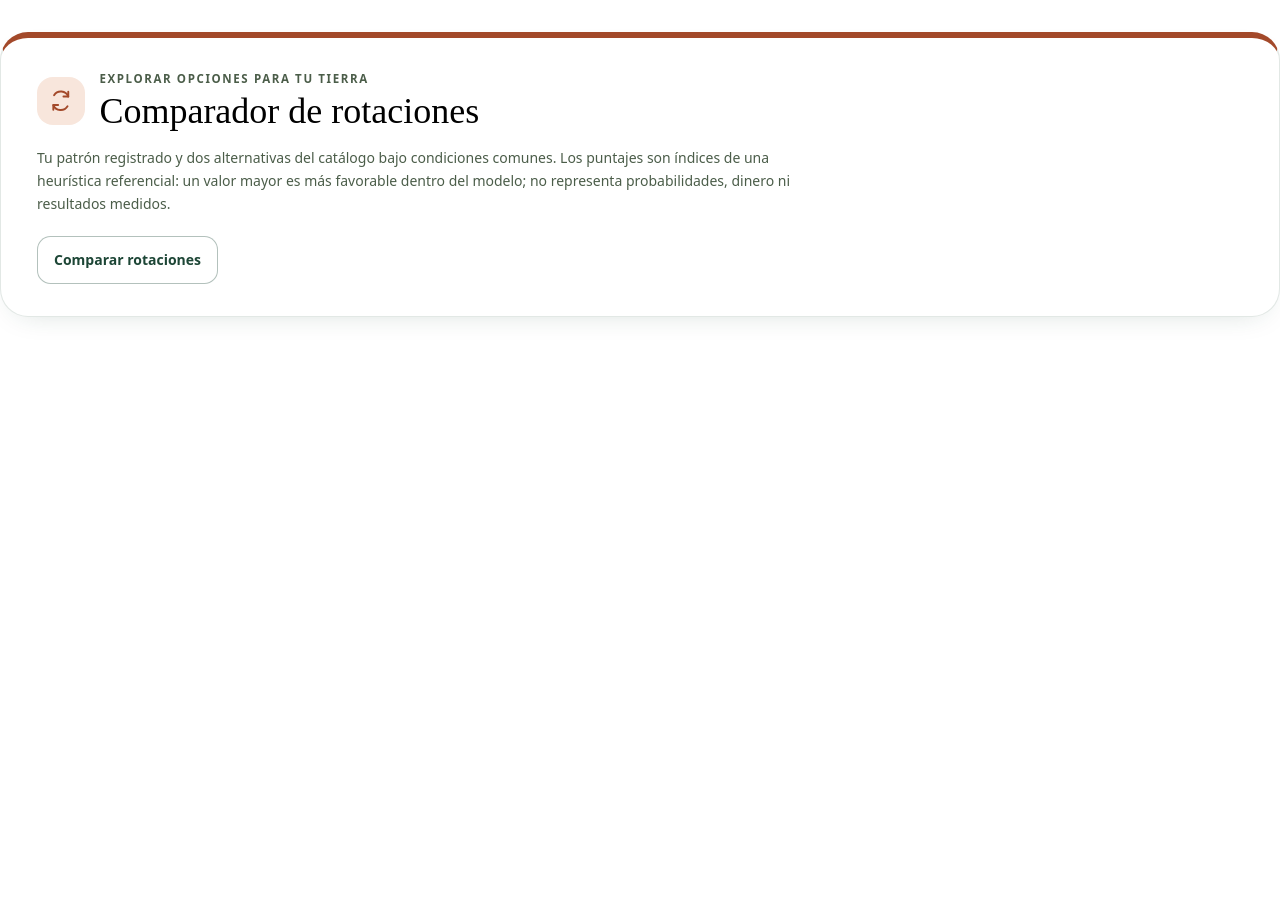
Test case: Comparador: tres tarjetas, límites, errores y sesiones › un fallo no muestra puntuaciones falsas y permite reintentar
Click the button "Comparar rotaciones" at (128, 260), box [37, 236, 218, 284]
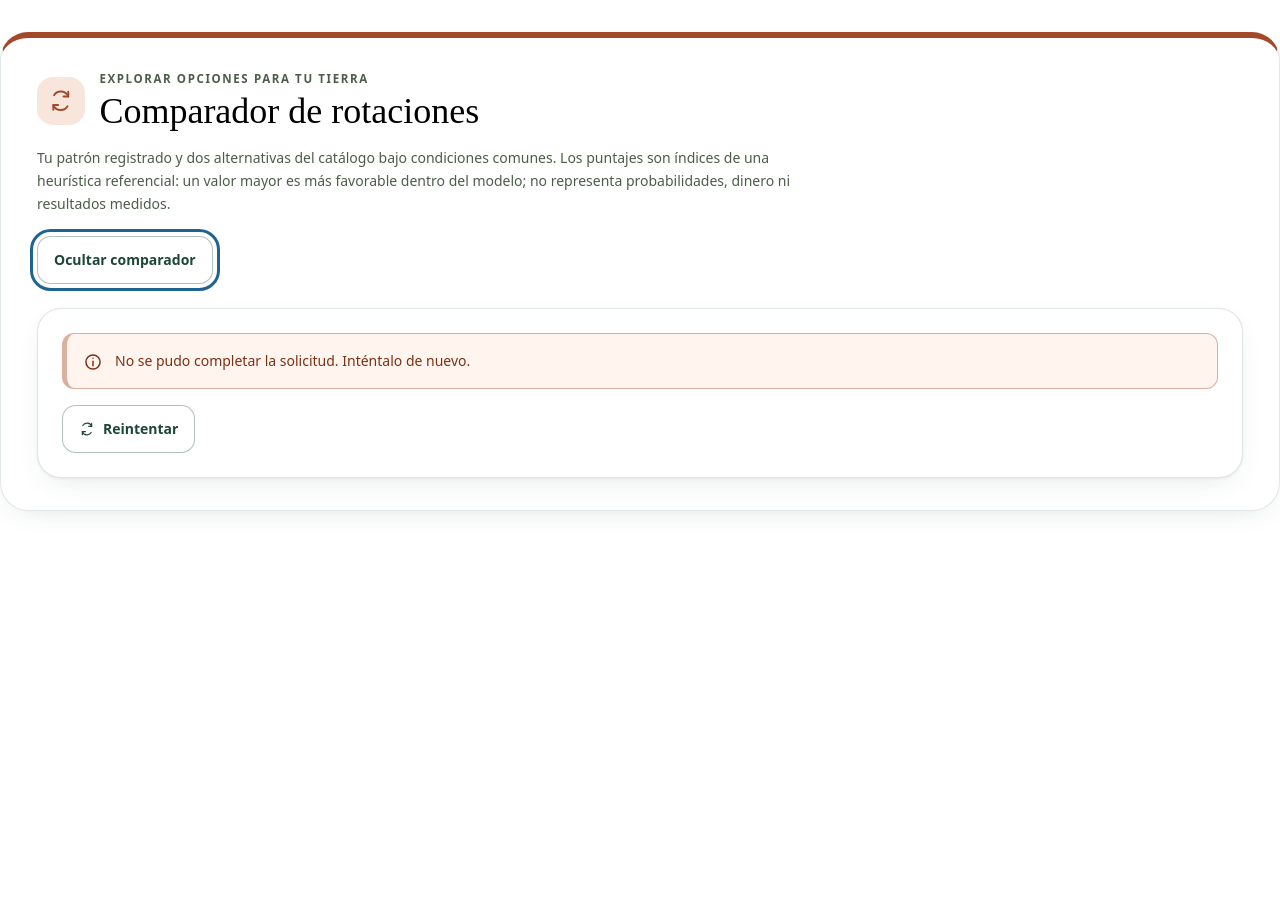
Check: the message "No se pudo completar la solicitud. Inténtalo de nuevo." is shown, box [62, 332, 1218, 388]
Click the button "Reintentar" at (129, 428), box [62, 404, 195, 452]
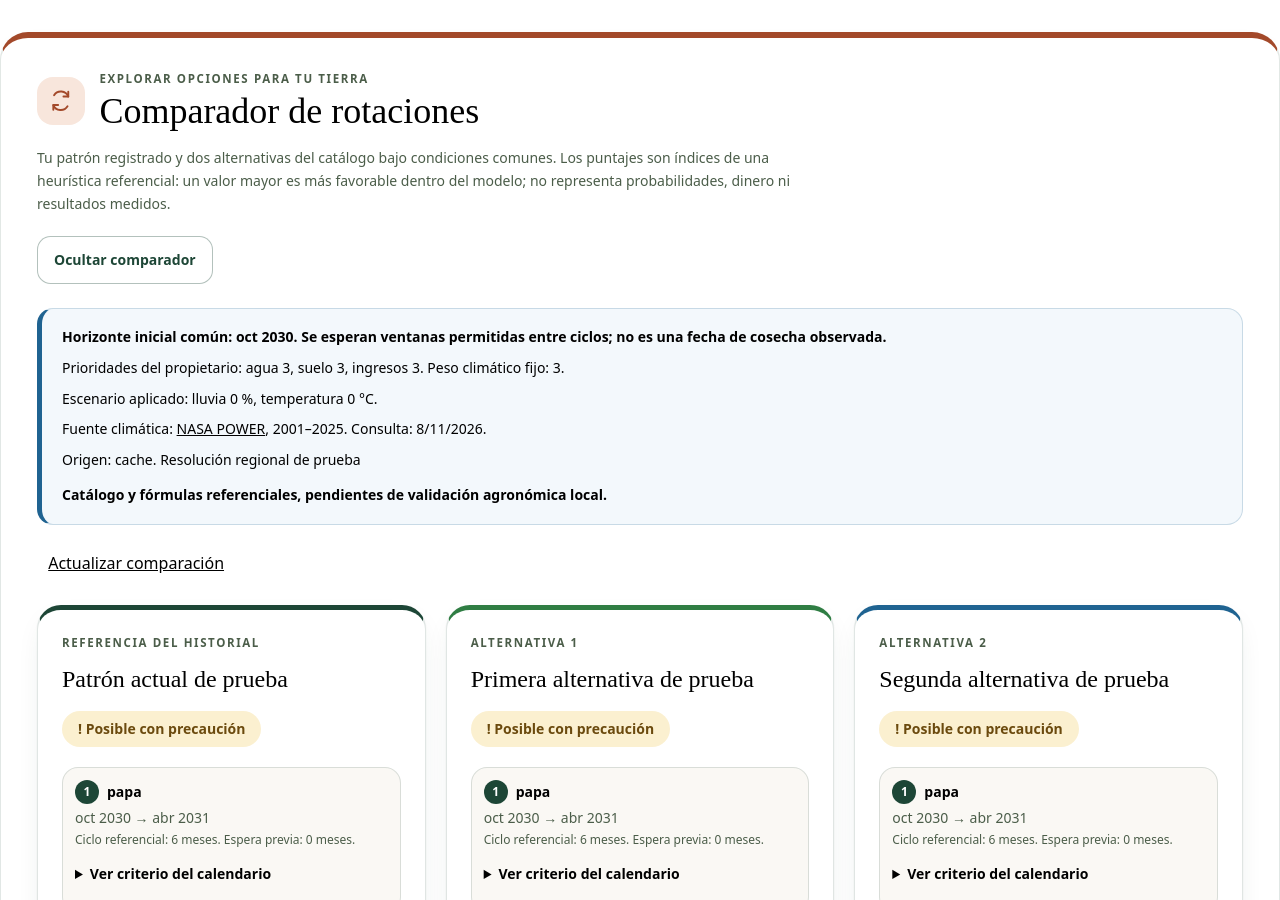
Check: the heading "Primera alternativa de prueba" is shown, box [471, 666, 754, 692]
